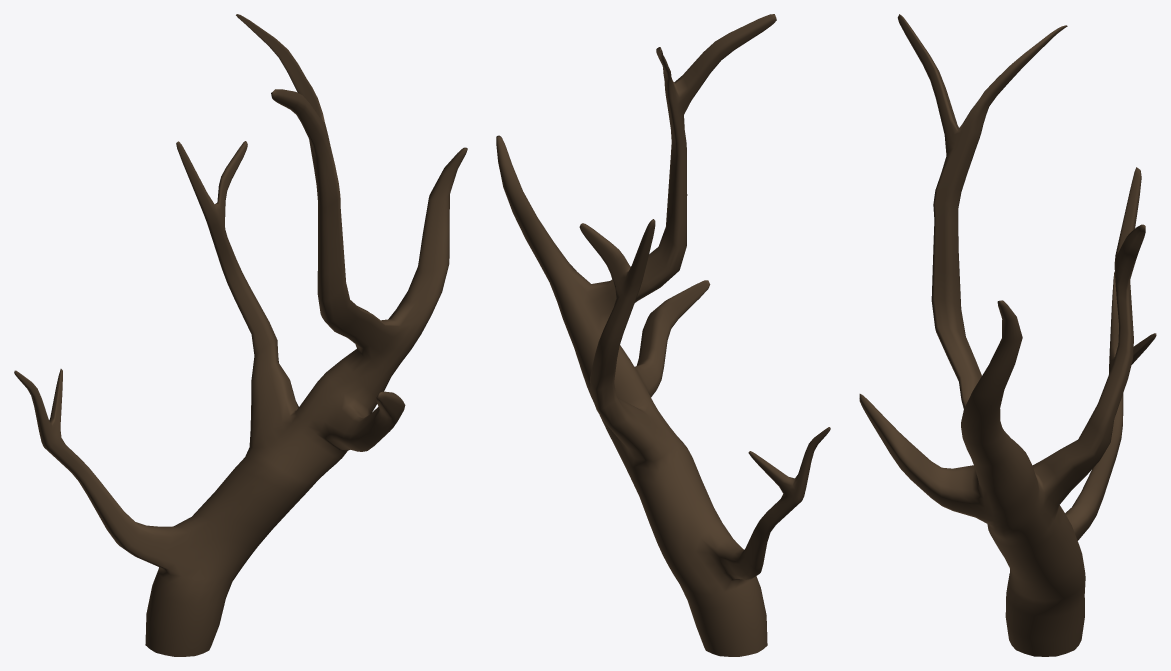
Rendered from Arbol medieval.fbx.
3 renders of one model, left to right at view 1: azimuth 30°, elevation 25°; view 2: azimuth 150°, elevation 25°; view 3: azimuth 270°, elevation 25°, orthographic. The views are drawn at different scales.
Visible parts, largest first — view 1: pCylinder1; view 2: pCylinder1; view 3: pCylinder1.
Boxes of the visible parts, left/top/right/bottom form: pCylinder1: left=14, top=14, right=467, bottom=656; pCylinder1: left=496, top=14, right=830, bottom=656; pCylinder1: left=859, top=14, right=1156, bottom=656.
Size of the model in its own units: 7.33 by 10.65 by 4.39.
